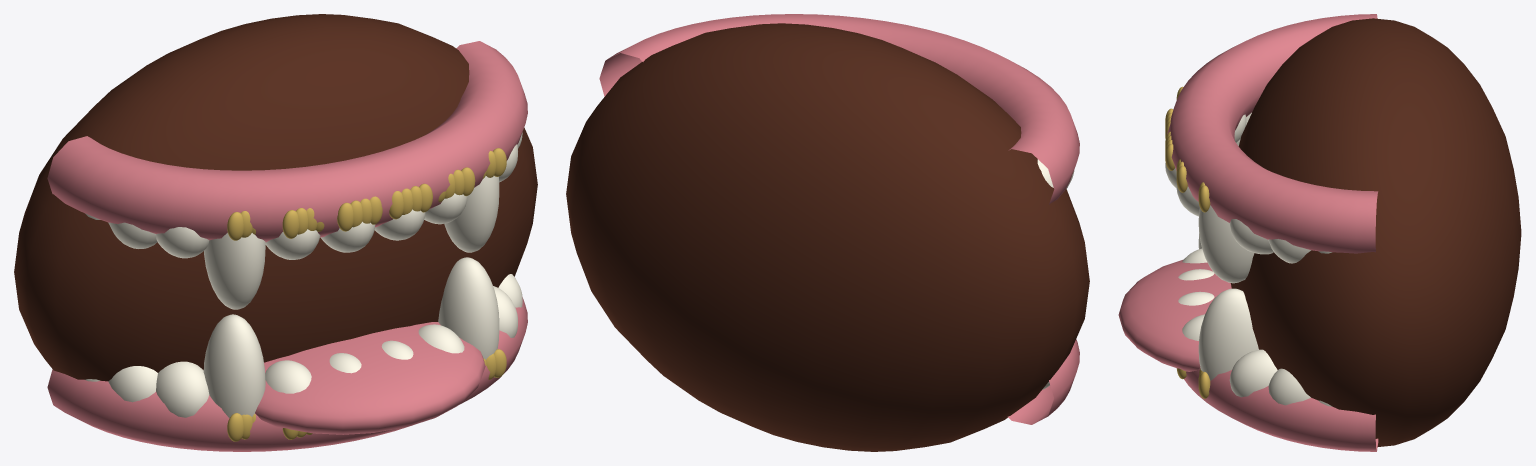
Rendered from mouth-carnivore-tartar.glb.
3 views of the same model, side by side, from view 1: azimuth 30°, elevation 25°; view 2: azimuth 150°, elevation 25°; view 3: azimuth 270°, elevation 25° (orthographic). The views are drawn at different scales.
Visible parts, largest first — view 1: oral cavity, gingiva.003, tongue.001, gingiva.002, tooth.107, tooth.112, tooth.119, tooth.124, tooth.106, tooth.105, tooth.108, tooth.118 (+7 smaller); view 2: oral cavity, gingiva.003, gingiva.002; view 3: oral cavity, gingiva.003, gingiva.002, tongue.001, tooth.112, tooth.124, tooth.113, tooth.114, tooth.125, tooth.126.
Part boxes in pixels (x1,y1,x2,y2): oral cavity: [14, 14, 537, 381]; gingiva.003: [47, 41, 527, 242]; tongue.001: [255, 322, 485, 434]; gingiva.002: [47, 297, 527, 451]; tooth.107: [203, 314, 265, 417]; tooth.112: [438, 257, 499, 359]; tooth.119: [204, 233, 265, 309]; tooth.124: [444, 176, 499, 252]; tooth.106: [156, 361, 209, 417]; tooth.105: [108, 366, 157, 402]; tooth.108: [265, 360, 311, 393]; tooth.118: [156, 227, 209, 258]; oral cavity: [566, 23, 1089, 451]; gingiva.003: [599, 14, 1079, 204]; gingiva.002: [1008, 339, 1079, 424]; oral cavity: [1230, 18, 1521, 446]; gingiva.003: [1167, 14, 1378, 253]; gingiva.002: [1184, 368, 1378, 451]; tongue.001: [1118, 260, 1231, 371]; tooth.112: [1198, 288, 1258, 380]; tooth.124: [1198, 205, 1254, 283]; tooth.113: [1229, 349, 1277, 397]; tooth.114: [1268, 368, 1310, 405]; tooth.125: [1229, 219, 1273, 254]; tooth.126: [1268, 239, 1310, 263].
Size of the model in its own units: 1.3 by 0.98 by 0.98.
